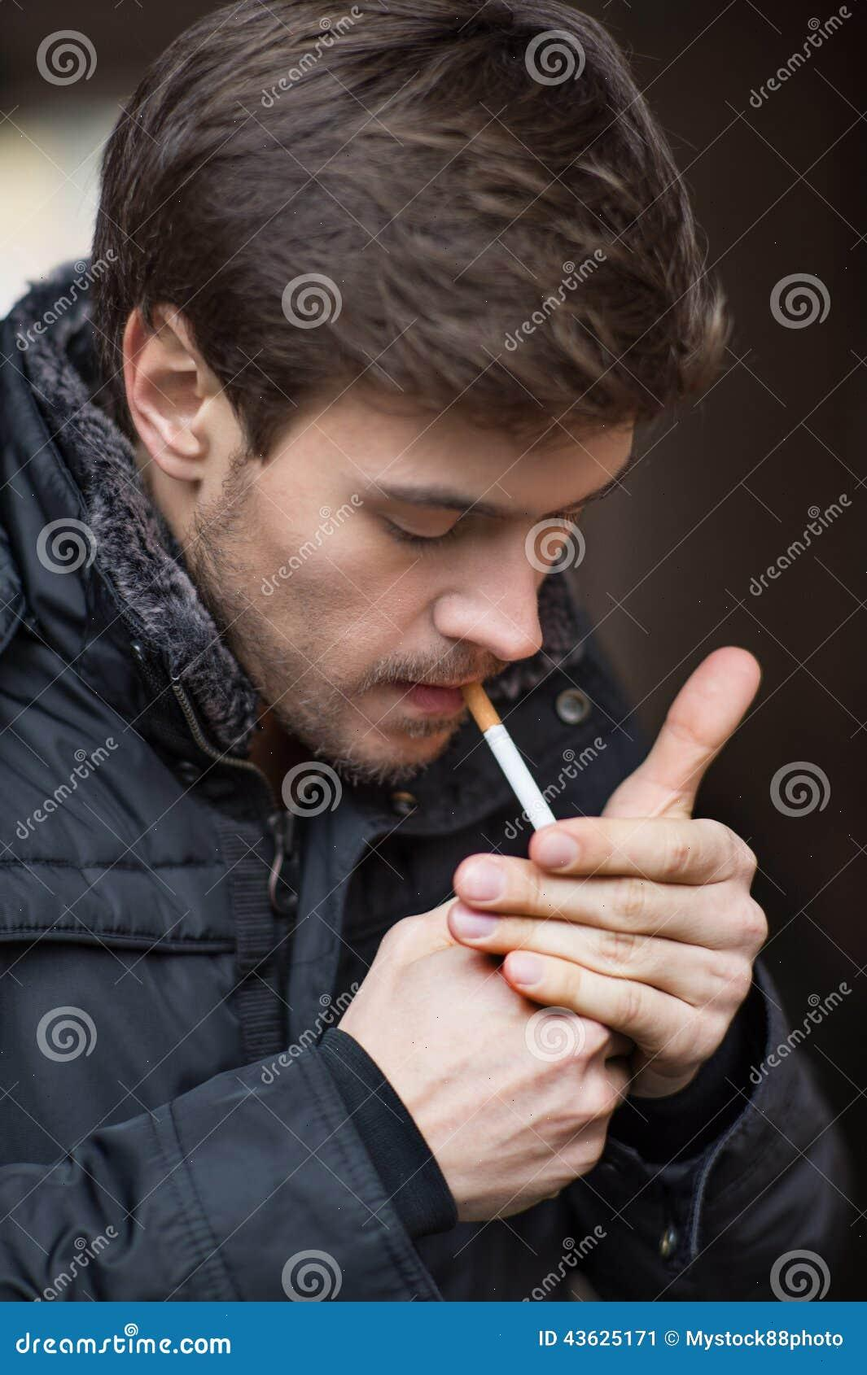cigarette: (462, 682, 556, 829)
